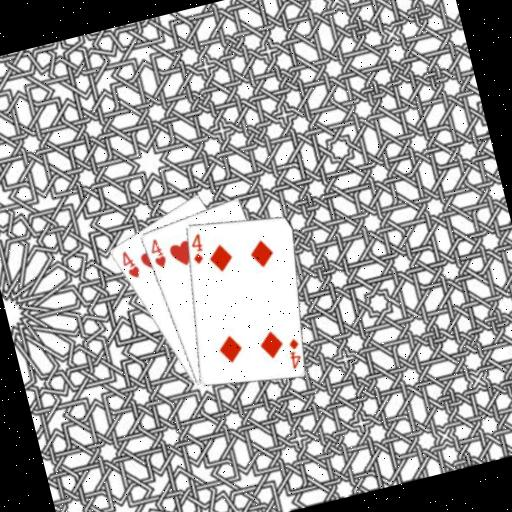4D: (184, 230, 208, 267), (282, 334, 306, 371)
4H: (116, 246, 143, 283), (144, 234, 169, 271)
